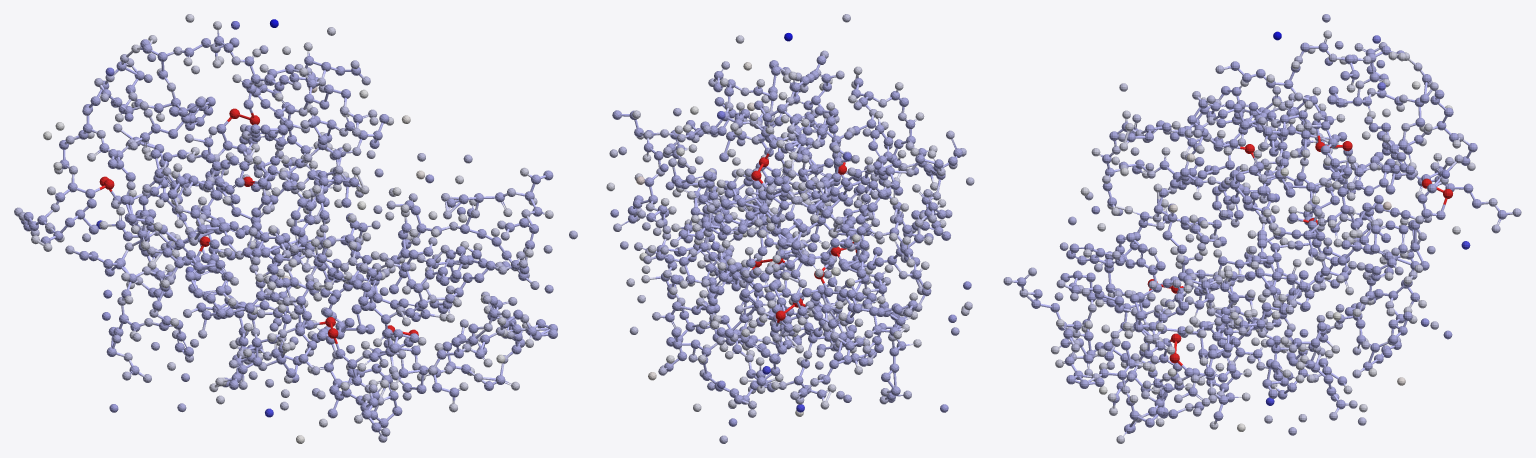
The model's file is 1lyz__ball_and_stick__b-factor.glb.
The picture shows the model from 3 angles, left to right: view 1: azimuth 30°, elevation 25°; view 2: azimuth 150°, elevation 25°; view 3: azimuth 270°, elevation 25°; orthographic projection. The views are drawn at different scales.
Parts seen in each view (by area): view 1: Renderer Node; view 2: Renderer Node; view 3: Renderer Node.
Boxes of the visible parts, x1,y1,x2,y2 form: Renderer Node: (14,14,577,443); Renderer Node: (606,14,974,443); Renderer Node: (1003,14,1521,443).
Size of the model in its own units: 40.3 by 37.89 by 44.9.
